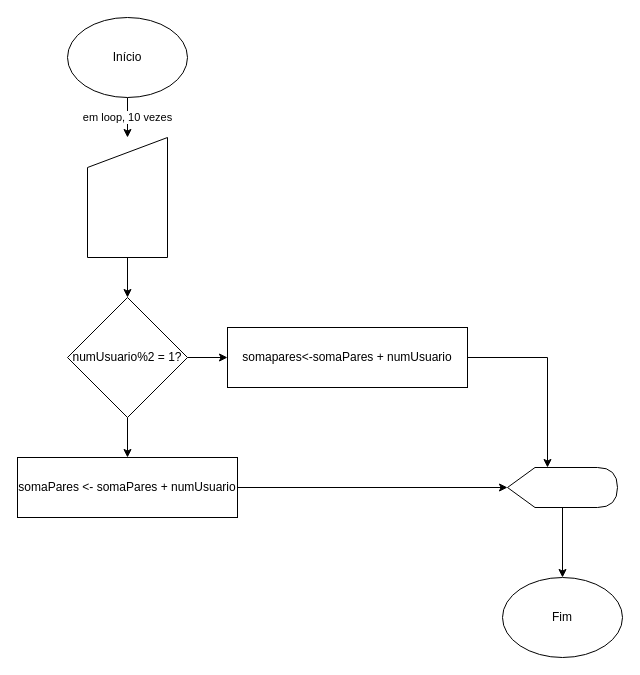
The diagram is 640 pixels wide and 675 high, and some of its shapes have lost their labels. The centre of each missing label's shape, as x and y in pixels:
"Numero Usuário (numUsuario)" goes at pixel 127 197.
"somaImpares; somaPares;" goes at pixel 562 487.
